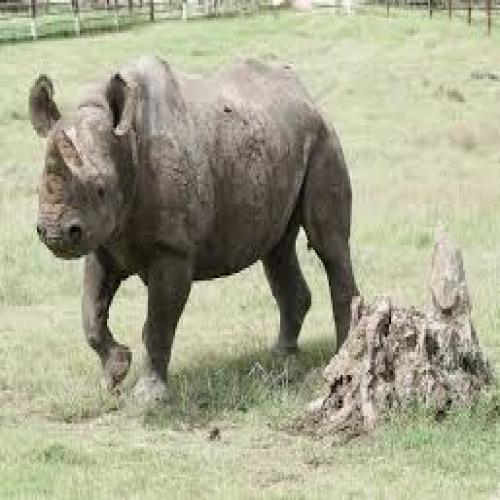rhino-endangered: (27, 50, 361, 397)
